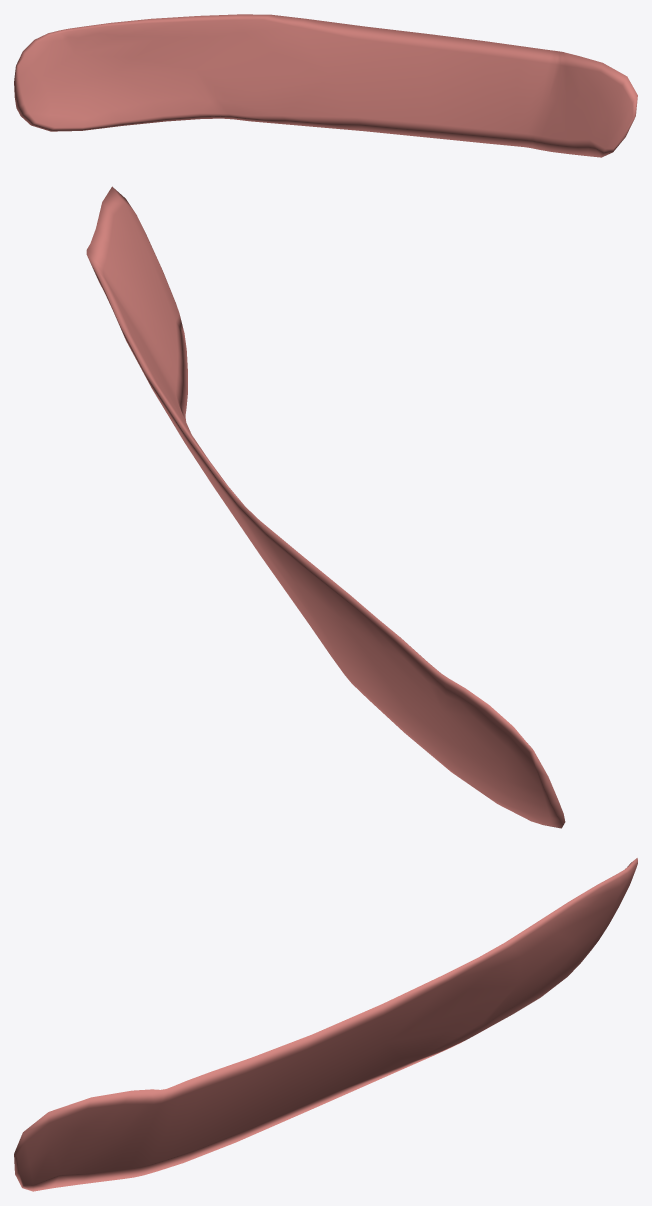
The picture shows the model from 3 angles, top to bottom: view 1: azimuth 30°, elevation 25°; view 2: azimuth 150°, elevation 25°; view 3: azimuth 270°, elevation 25°; orthographic projection. The views are drawn at different scales.
Parts seen in each view (by area): view 1: ZA_9a77989642dd1f62; view 2: ZA_9a77989642dd1f62; view 3: ZA_9a77989642dd1f62.
Boxes of the visible parts, <box> form: ZA_9a77989642dd1f62: <box>14,14,637,157</box>; ZA_9a77989642dd1f62: <box>86,186,565,828</box>; ZA_9a77989642dd1f62: <box>14,858,637,1191</box>.
Size of the model in its own units: 0.0443 by 0.00974 by 0.039.
